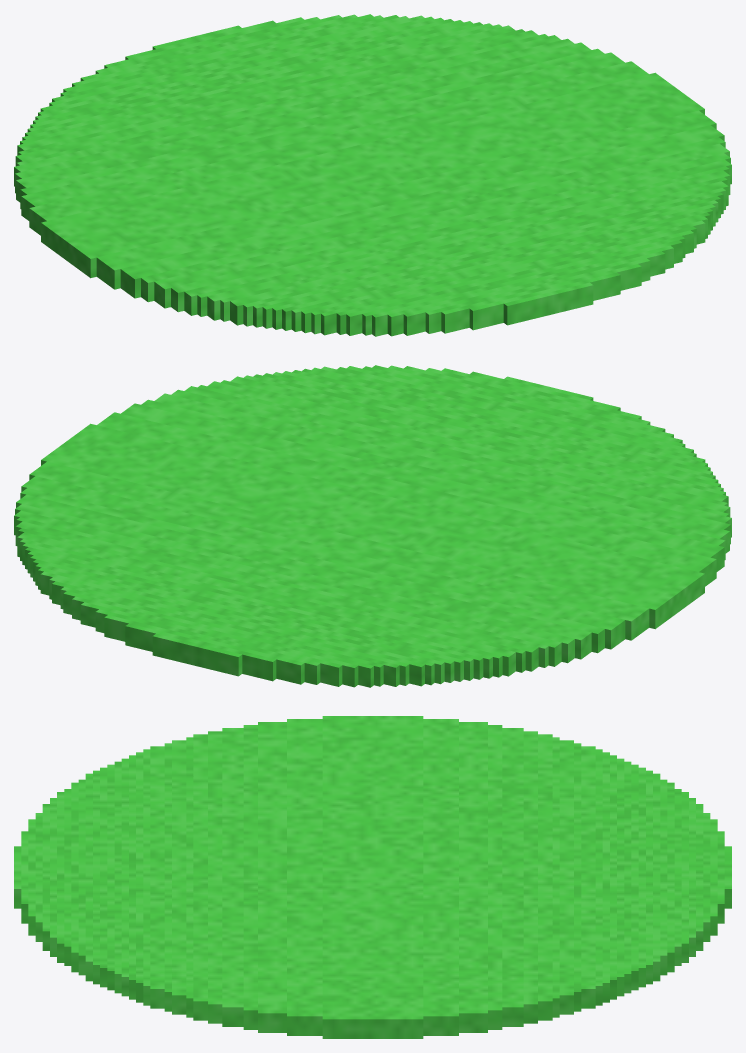
File: Ground.fbx
The picture shows the model from 3 angles, top to bottom: view 1: azimuth 30°, elevation 25°; view 2: azimuth 150°, elevation 25°; view 3: azimuth 270°, elevation 25°; orthographic projection.
Visible parts, largest first — view 1: Matrix; view 2: Matrix; view 3: Matrix.
Boxes of the visible parts, <box> form: Matrix: <box>14,14,731,336</box>; Matrix: <box>14,365,731,687</box>; Matrix: <box>14,716,731,1038</box>.
Size of the model in its own units: 100 by 3 by 100.
